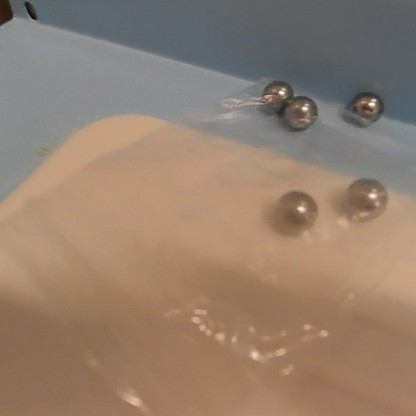ironball: (337, 166, 391, 224), (270, 188, 324, 240), (257, 73, 294, 114), (342, 89, 382, 126), (285, 95, 317, 131)
